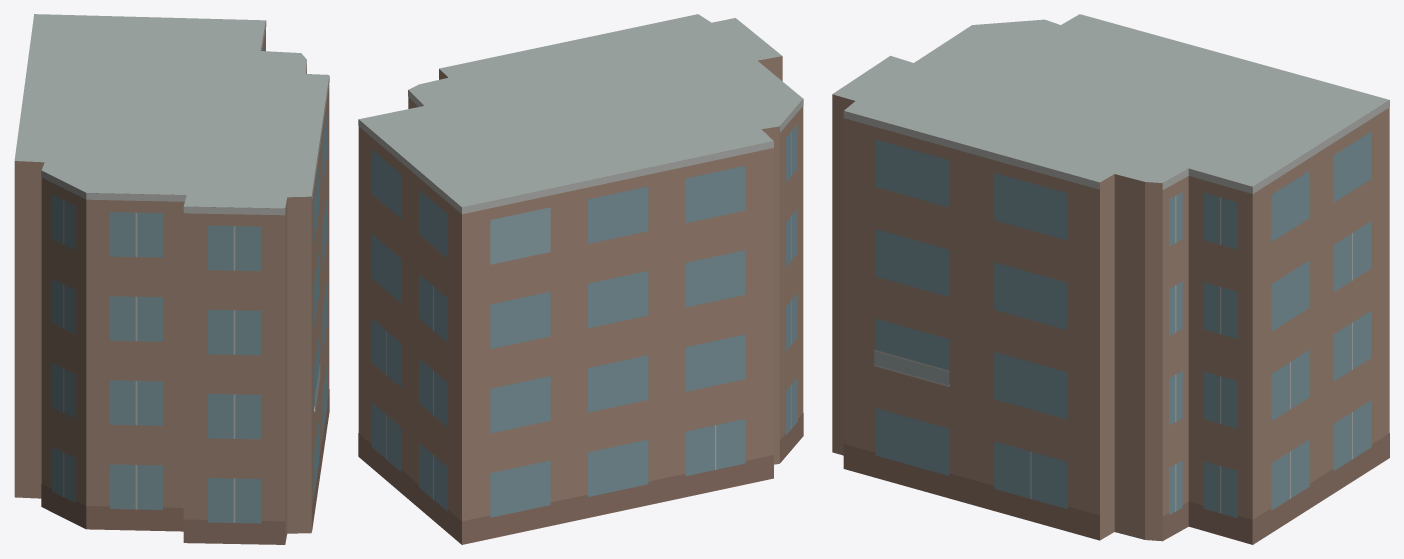
File: survey-upis-32961232.glb
3 renders of one model, left to right at view 1: azimuth 30°, elevation 25°; view 2: azimuth 150°, elevation 25°; view 3: azimuth 270°, elevation 25°, orthographic. The views are drawn at different scales.
Parts seen in each view (by area): view 1: survey-upis-32961232.tmp; view 2: survey-upis-32961232.tmp; view 3: survey-upis-32961232.tmp.
Part boxes in pixels (x1=…): survey-upis-32961232.tmp: x1=14, y1=14, x2=329, y2=544; survey-upis-32961232.tmp: x1=358, y1=14, x2=803, y2=544; survey-upis-32961232.tmp: x1=832, y1=14, x2=1389, y2=544.
Bounding box in the file's own units: 12.4 × 11.97 × 16.9.
